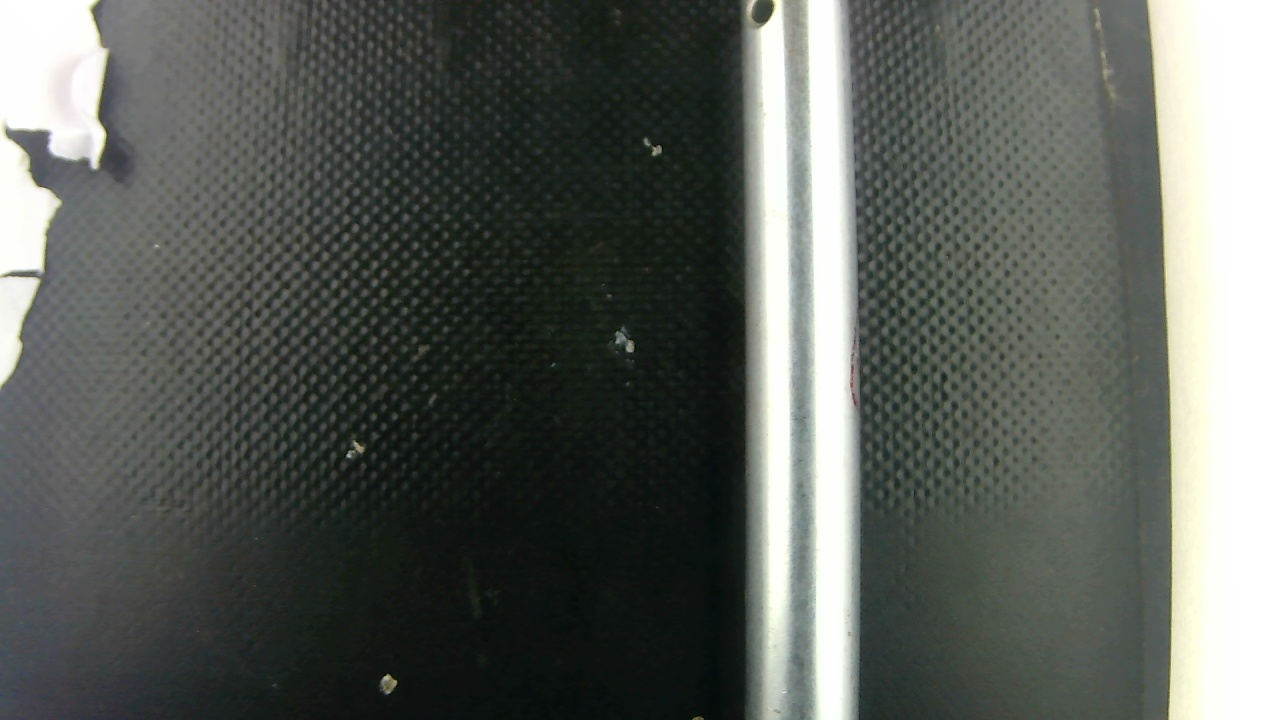rust_pin: (843, 330, 871, 406)
